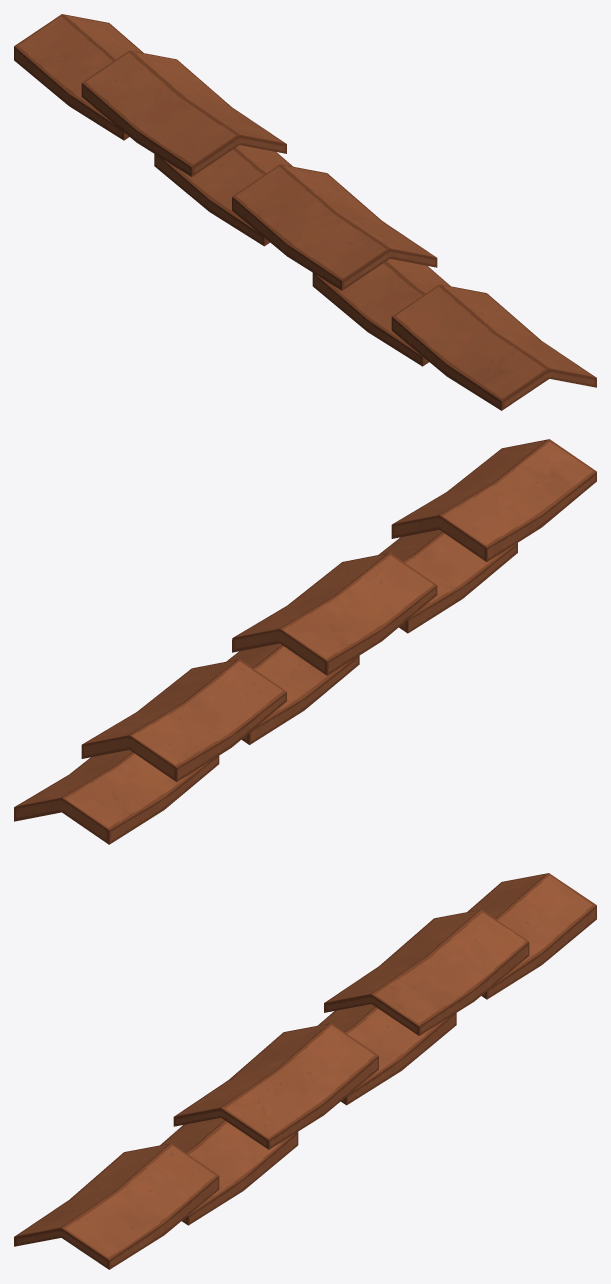
The model's file is SM_building_part_07.glb.
The picture shows the model from 3 angles, top to bottom: view 1: azimuth 30°, elevation 25°; view 2: azimuth 150°, elevation 25°; view 3: azimuth 330°, elevation 25°; orthographic projection.
Parts seen in each view (by area): view 1: SM_building_part_07; view 2: SM_building_part_07; view 3: SM_building_part_07.
Boxes of the visible parts, x1,y1,x2,y2 form: SM_building_part_07: (14, 14, 596, 410); SM_building_part_07: (14, 439, 596, 844); SM_building_part_07: (14, 873, 596, 1269).
Bounding box in the file's own units: 0.7447 × 0.4559 × 6.61.
Materials: 1 (1 with a texture image).
